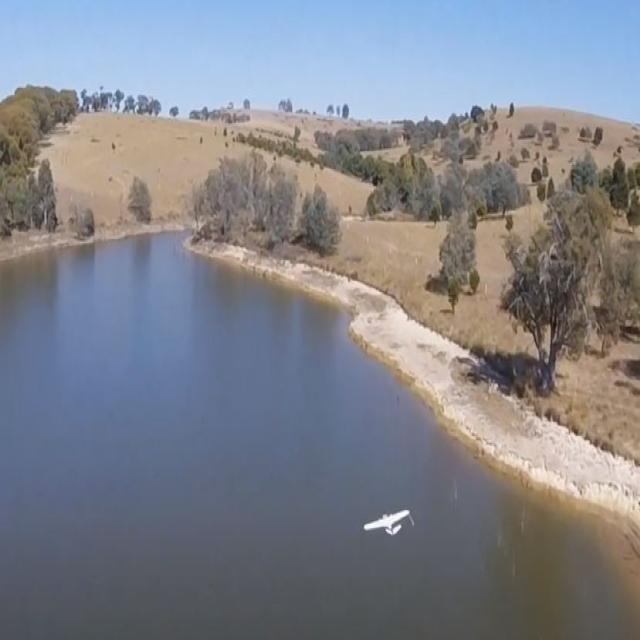iha: (362, 501, 411, 532)
